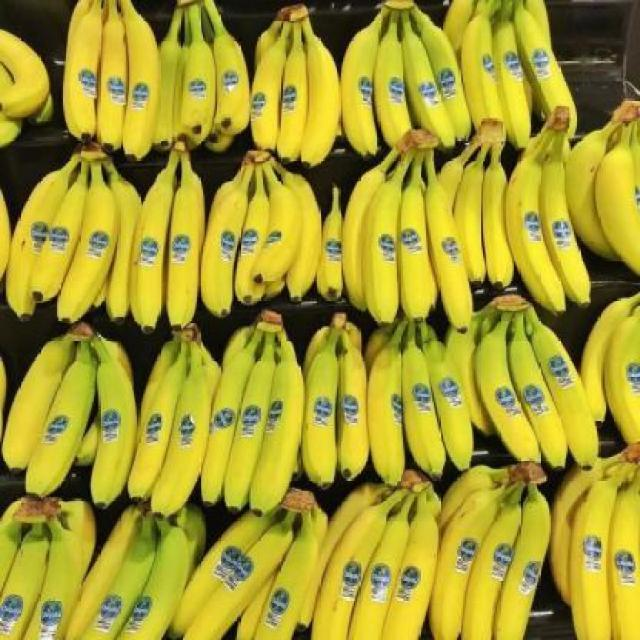Banana: (343, 128, 478, 332), (0, 331, 140, 503), (301, 473, 445, 640), (174, 489, 338, 633), (7, 147, 138, 327), (466, 295, 603, 465), (432, 462, 558, 640), (342, 0, 472, 160), (209, 310, 306, 520), (200, 150, 324, 308), (441, 0, 579, 140), (80, 498, 216, 634), (132, 322, 225, 519), (363, 313, 474, 474), (508, 109, 595, 309), (554, 440, 640, 640), (60, 0, 160, 151), (565, 93, 640, 282), (250, 6, 341, 161), (131, 142, 207, 326), (0, 495, 99, 636), (159, 3, 253, 138), (304, 312, 369, 490), (579, 293, 640, 446), (0, 25, 54, 145)
